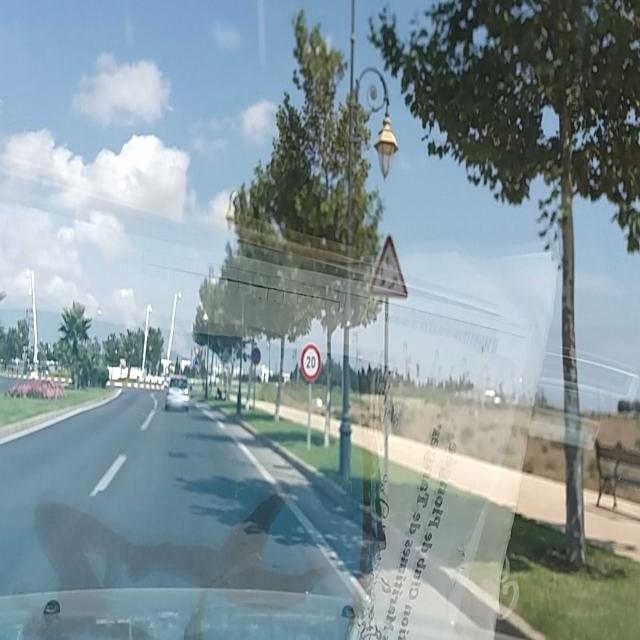car: (163, 374, 190, 412)
